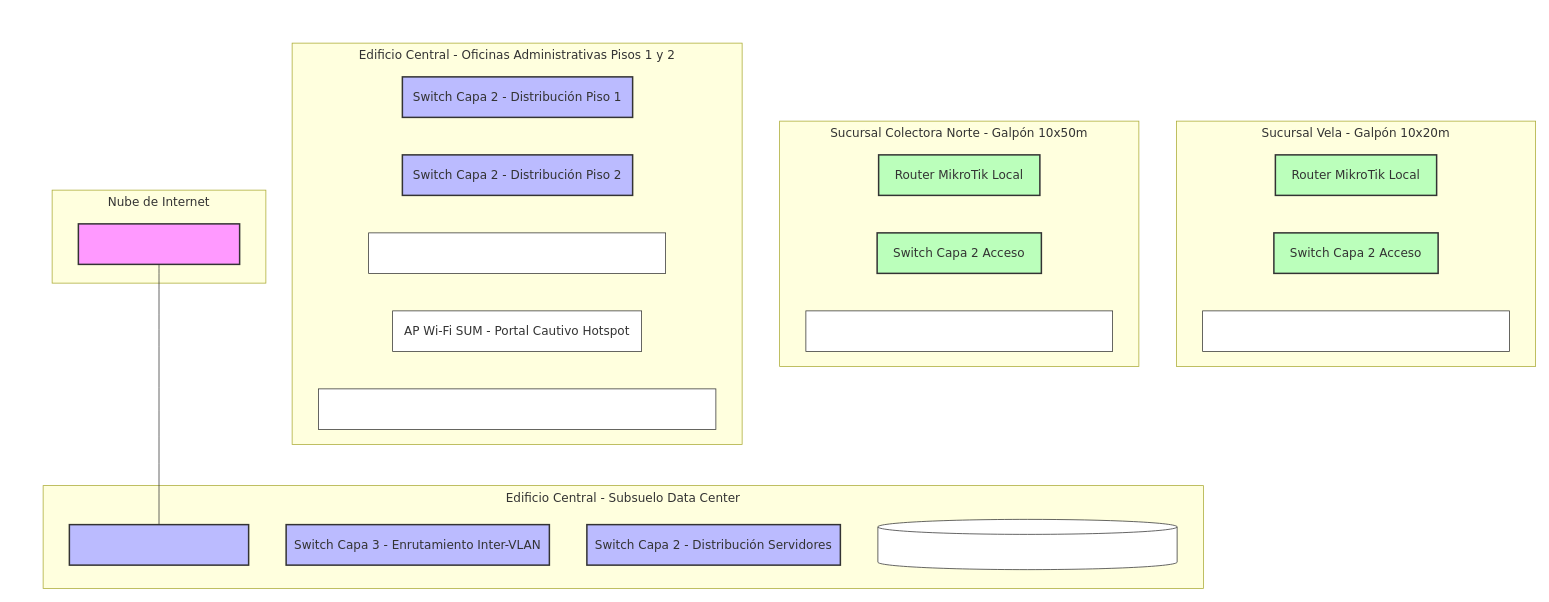
This 1549x602 diagram has some shape labels left out. Here are the shapes that lost their labels. From the top down, the centre of each, then its label:
[158,244]: Proveedor ISP Central
[517,252]: AP Wi-Fi Administración - Autenticación 802.1X
[959,330]: 8 Cajas de Cobro Cableadas + PC Administración
[1355,330]: 3 Cajas de Cobro Cableadas + PC Administración
[517,408]: 3 PCs por Sector: Ventas, Compras, Contaduría, Tesorería, Soporte
[158,545]: Router MikroTik Principal
[1027,544]: Servidores Core: DHCP, DNS, LDAP, Proxy Squid, SMTP
